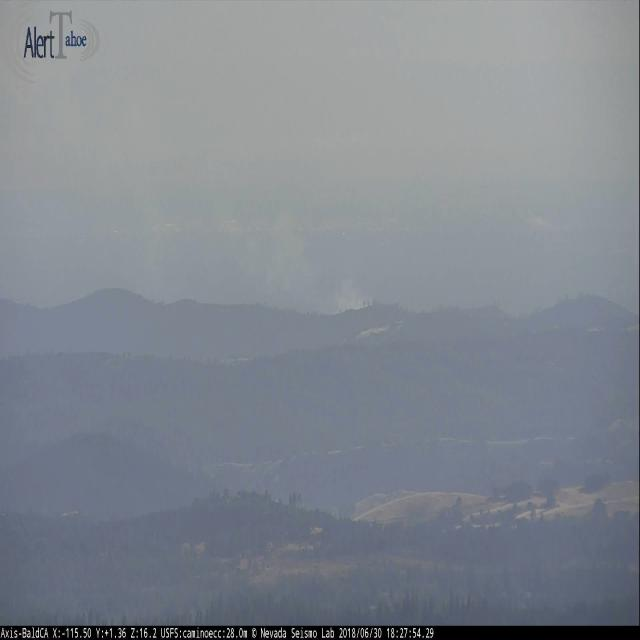smoke: (331, 279, 372, 311), (533, 213, 549, 228)
